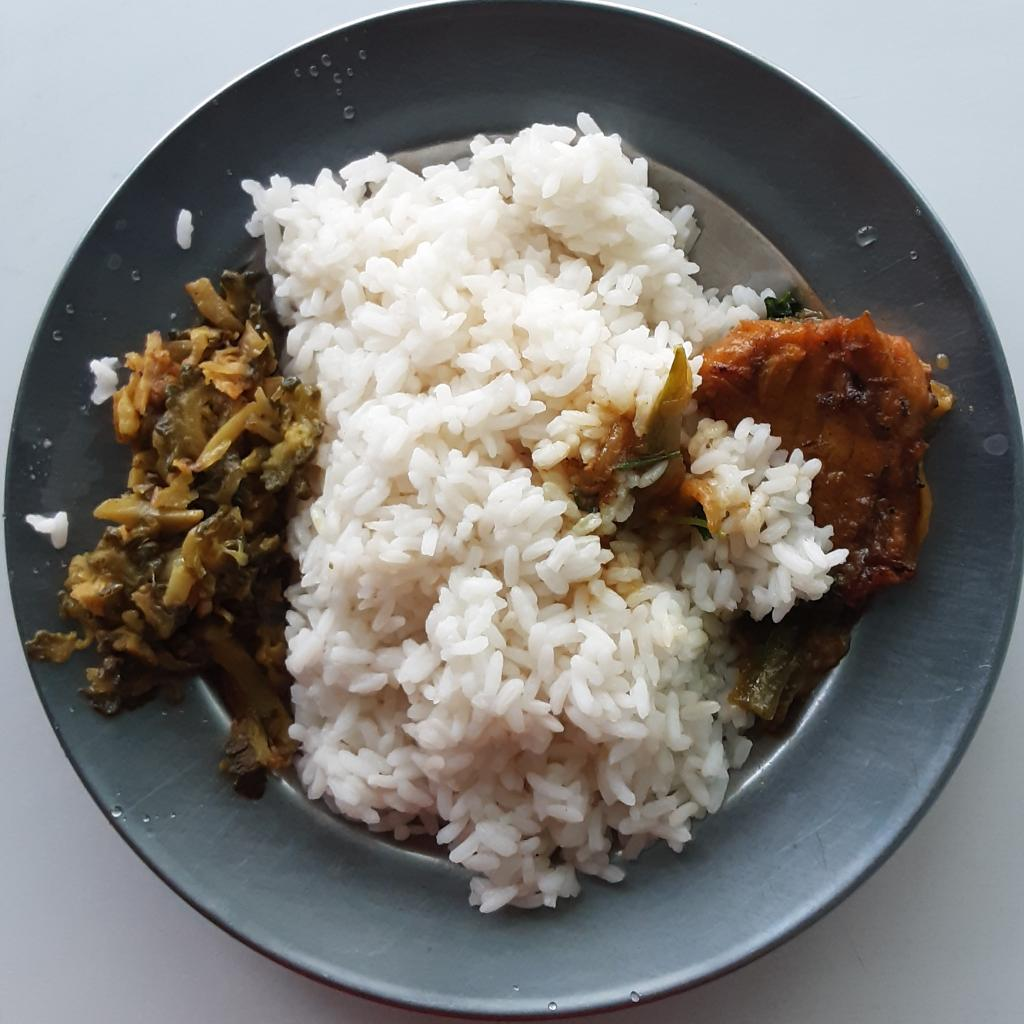fish: (702, 290, 951, 720)
korola-vaji: (24, 269, 320, 798)
rice: (242, 117, 844, 916)
